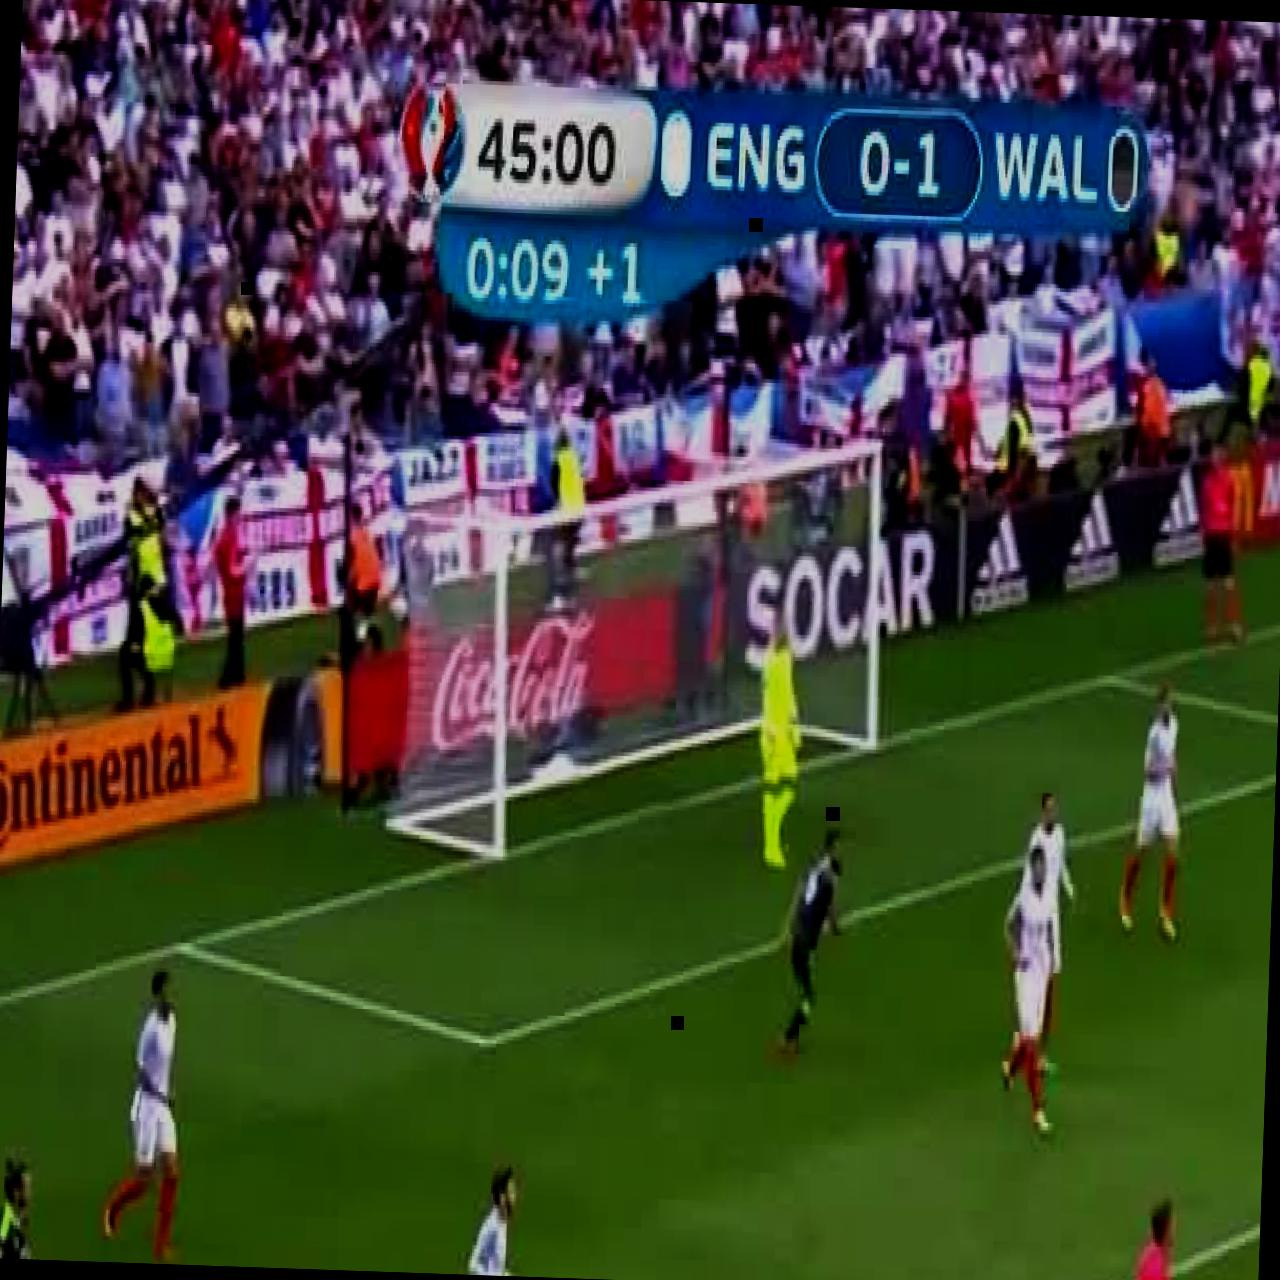football: (100, 966, 184, 1264), (996, 843, 1064, 1138), (1012, 784, 1077, 1078), (1115, 686, 1187, 942), (768, 830, 846, 1066), (755, 611, 812, 871), (1196, 441, 1250, 645), (440, 1158, 523, 1276), (0, 1144, 70, 1260), (1108, 1196, 1183, 1280)
